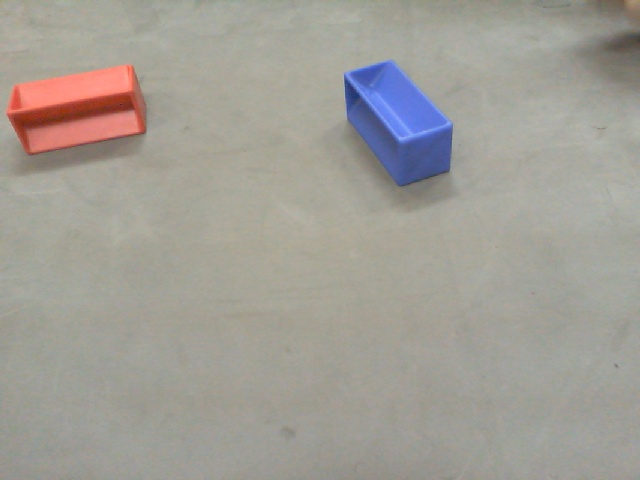BlueSample: (342, 54, 455, 192)
RedSample: (5, 60, 150, 164)
